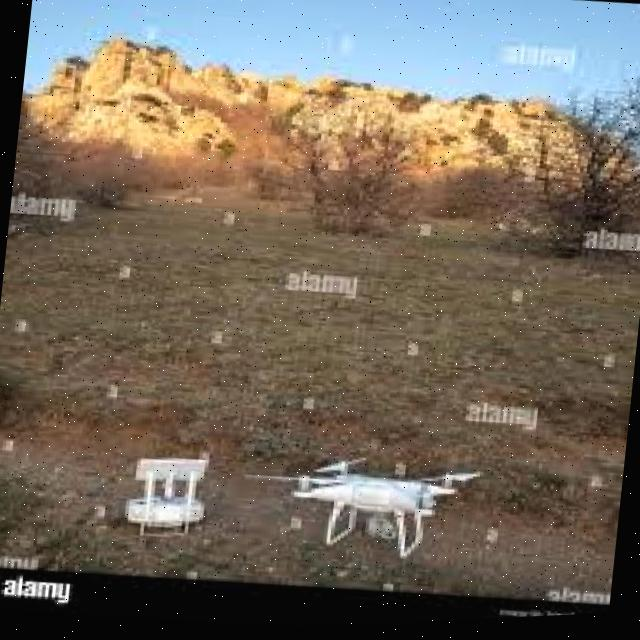drone: (258, 438, 490, 571)
